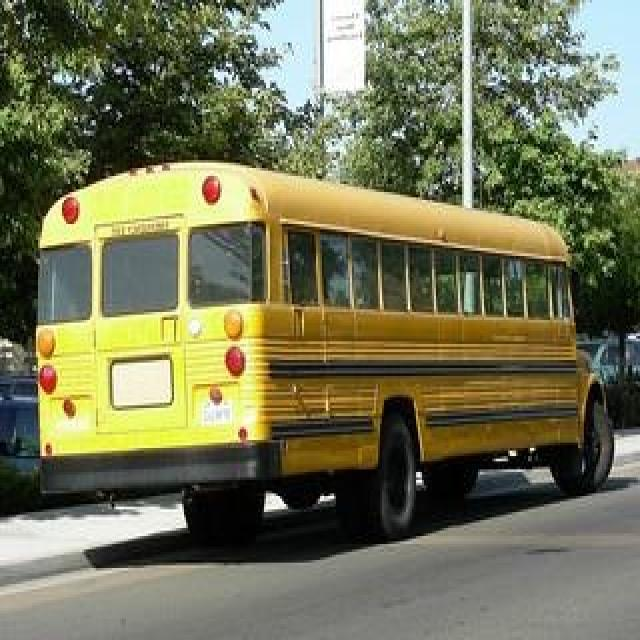Bus: (29, 149, 618, 550)
